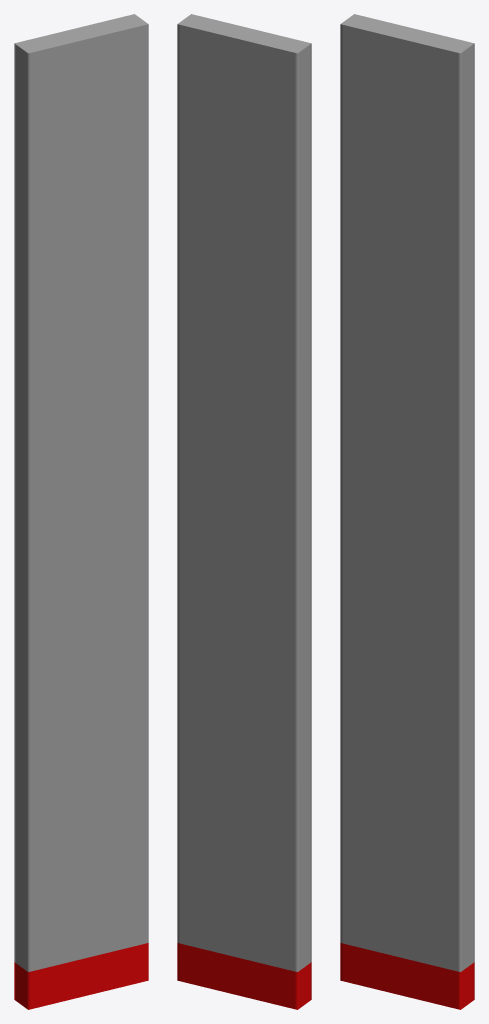
File: Pillar_02_Snaps014.fbx
The picture shows the model from 3 angles, left to right: view 1: azimuth 30°, elevation 25°; view 2: azimuth 150°, elevation 25°; view 3: azimuth 330°, elevation 25°; orthographic projection.
Parts seen in each view (by area): view 1: Pillar_02_LOD00; view 2: Pillar_02_LOD00; view 3: Pillar_02_LOD00.
Part boxes in pixels (x1,y1,x2,y2): Pillar_02_LOD00: (14, 14, 148, 1009); Pillar_02_LOD00: (177, 14, 311, 1009); Pillar_02_LOD00: (340, 14, 474, 1009).
Size of what is drawn, in the model's own units: 50 by 380 by 10.
